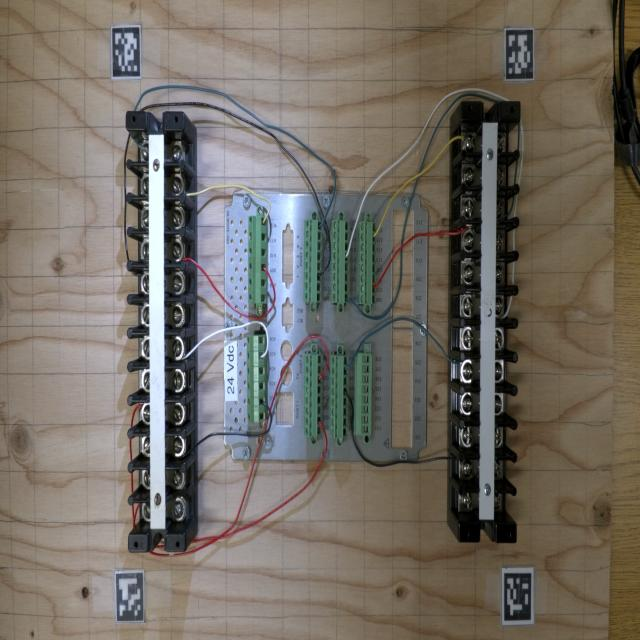Flathead_Block: (127, 112, 186, 552)
Phillips_Block: (459, 101, 520, 543)
Terminal_1: (247, 335, 267, 423), (248, 215, 267, 304)
Terminal_2: (303, 219, 322, 303), (331, 220, 349, 303), (358, 221, 376, 304), (330, 356, 348, 439), (304, 354, 322, 437)
